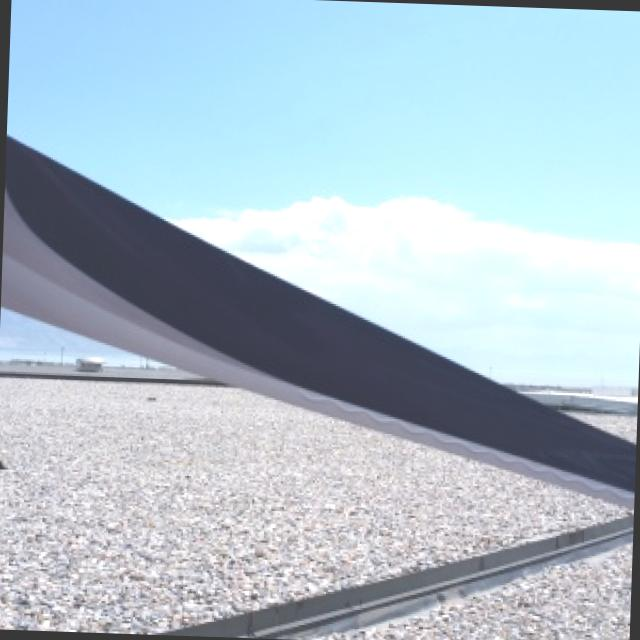healthy: (3, 136, 634, 502)
